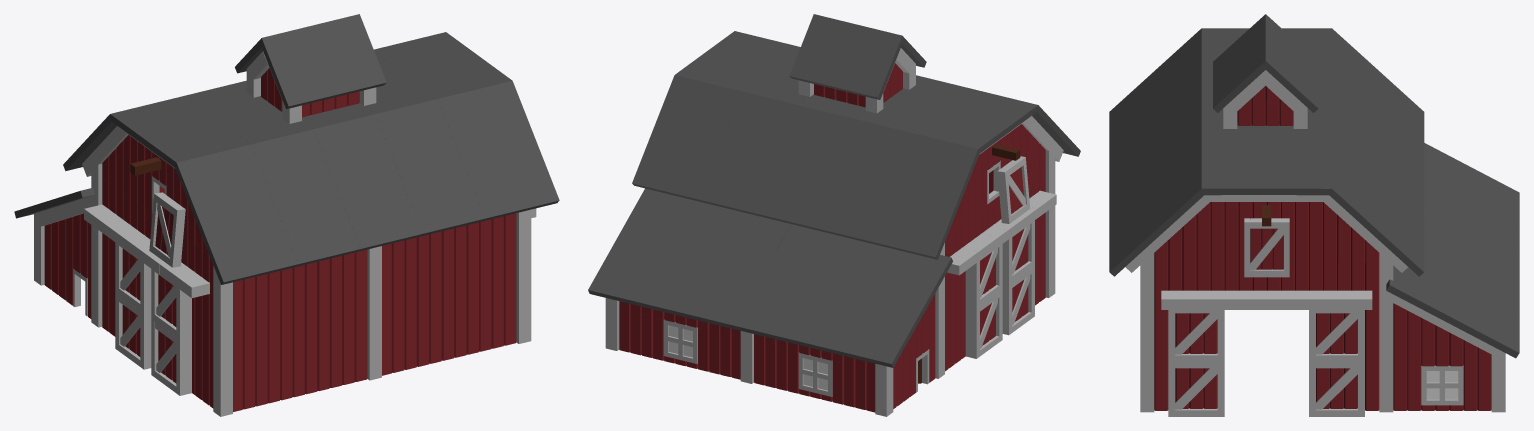
Rendered from barnMin.fbx.
3 views of the same model, side by side, from view 1: azimuth 30°, elevation 25°; view 2: azimuth 150°, elevation 25°; view 3: azimuth 270°, elevation 25° (orthographic). The views are drawn at different scales.
Parts seen in each view (by area): view 1: Cube.524, Cube, Cube.514, Cube.504, Cube.494, Cube.528, Cube.488, Cube.508, Cube.498, Cube.518, Cube.619, Cube.621 (+93 smaller); view 2: Cube.532, Cube.492, Cube.913, Cube.909, Cube.918, Cube.914, Cube.522, Cube.512, Cube.502, Cube.531, Cube.491, Cube.910 (+53 smaller); view 3: Cube.909, Cube.914, Cube.487, Cube.492, Cube, Cube.918, Cube.913, Cube.490, Cube.488, Cube.912, Cube.915, Cube.917 (+121 smaller).
Part boxes in pixels (left/top/right/bottom): Cube.524: left=202, top=216, right=298, bottom=284; Cube: left=466, top=152, right=559, bottom=221; Cube.514: left=279, top=200, right=360, bottom=266; Cube.504: left=342, top=185, right=422, bottom=251; Cube.494: left=404, top=170, right=484, bottom=236; Cube.528: left=187, top=177, right=279, bottom=236; Cube.488: left=451, top=113, right=540, bottom=169; Cube.508: left=326, top=146, right=403, bottom=200; Cube.498: left=388, top=131, right=465, bottom=185; Cube.518: left=264, top=162, right=341, bottom=215; Cube.619: left=271, top=56, right=337, bottom=109; Cube.621: left=322, top=44, right=386, bottom=97; Cube.532: left=868, top=197, right=954, bottom=259; Cube.492: left=632, top=139, right=716, bottom=201; Cube.913: left=824, top=310, right=914, bottom=367; Cube.909: left=588, top=252, right=676, bottom=310; Cube.918: left=845, top=273, right=935, bottom=329; Cube.914: left=609, top=215, right=697, bottom=268; Cube.522: left=812, top=183, right=885, bottom=243; Cube.512: left=756, top=170, right=828, bottom=229; Cube.502: left=699, top=156, right=772, bottom=215; Cube.531: left=885, top=162, right=968, bottom=215; Cube.491: left=649, top=104, right=730, bottom=155; Cube.910: left=655, top=269, right=732, bottom=323; Cube.909: left=1470, top=293, right=1519, bottom=358; Cube.914: left=1425, top=270, right=1473, bottom=334; Cube.487: left=1227, top=153, right=1269, bottom=194; Cube.492: left=1382, top=203, right=1424, bottom=276; Cube: left=1109, top=203, right=1151, bottom=276; Cube.918: left=1428, top=145, right=1473, bottom=204; Cube.913: left=1474, top=169, right=1519, bottom=227; Cube.490: left=1322, top=153, right=1356, bottom=215; Cube.488: left=1146, top=176, right=1180, bottom=242; Cube.912: left=1474, top=204, right=1519, bottom=257; Cube.915: left=1428, top=240, right=1473, bottom=293; Cube.917: left=1428, top=180, right=1473, bottom=233.
Bounding box in the file's own units: 5746 × 4714 × 5836.
